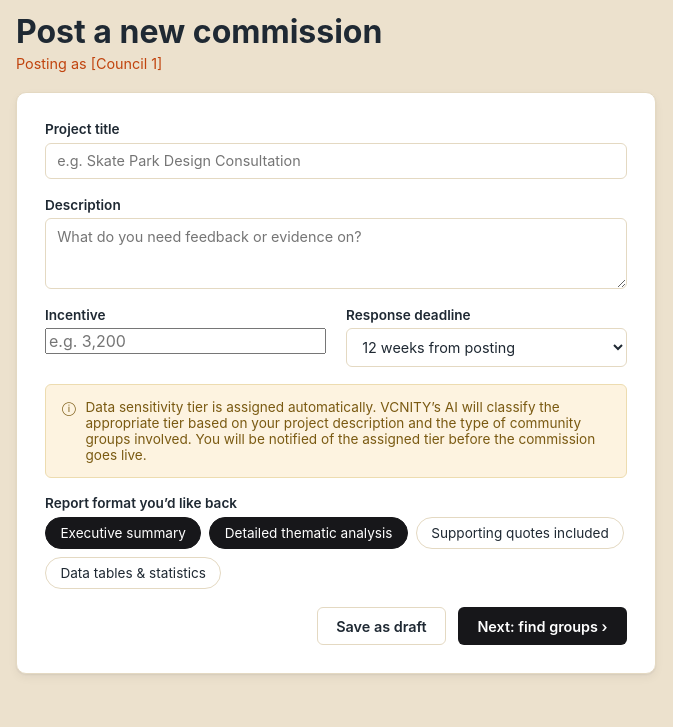
Scenario: PostCommissionPage — step 1 (commission details) › blocks advancing and shows inline errors when required fields are empty
The width and height of the screenshot is (673, 727).
Step 1. Click the button "Next: find groups ›" → (542, 626), box x1=458 y1=607 x2=627 y2=645
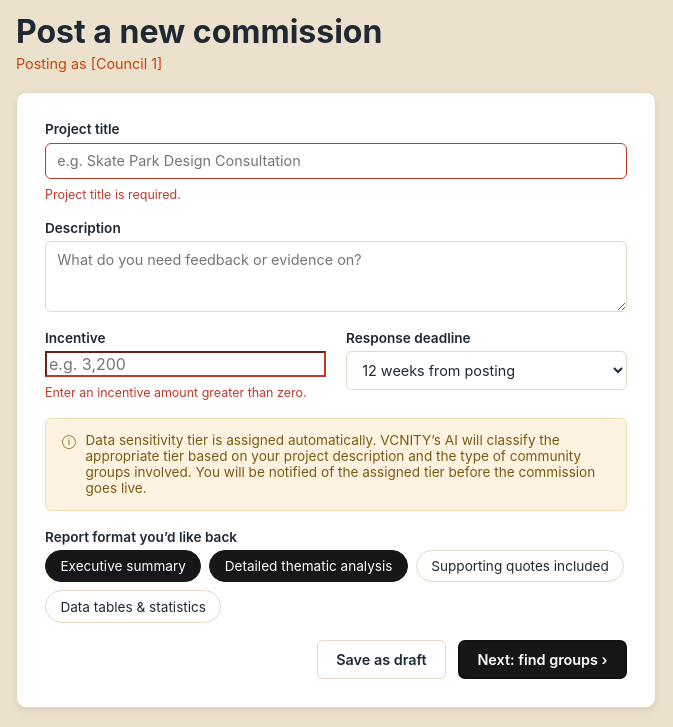
Expected: the text "Project title is required." is shown, x1=45 y1=187 x2=181 y2=202
Expected: the text "Enter an incentive amount greater than zero." is shown, x1=45 y1=385 x2=326 y2=400
